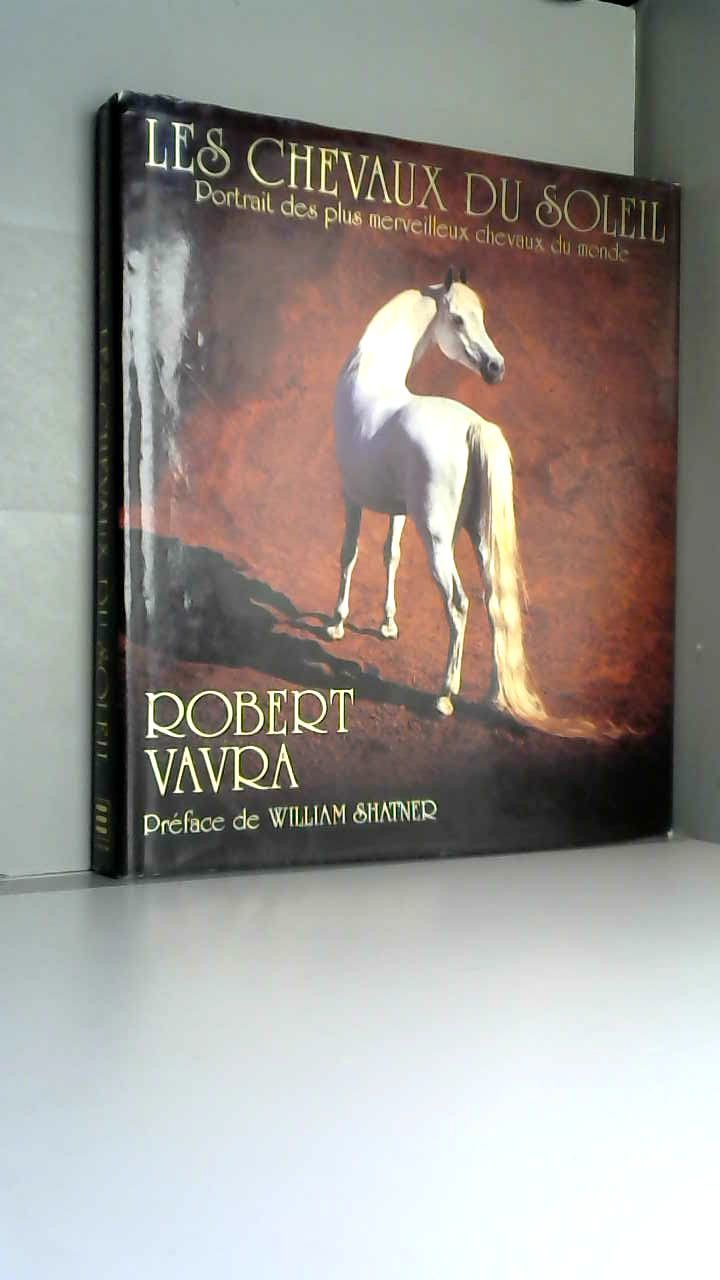book: (60, 70, 718, 921)
